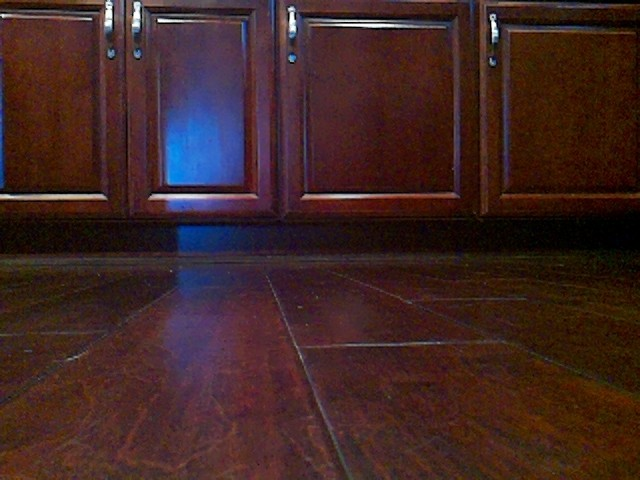Drivable Area: (0, 258, 640, 480)
Obstacle: (0, 0, 640, 221)
